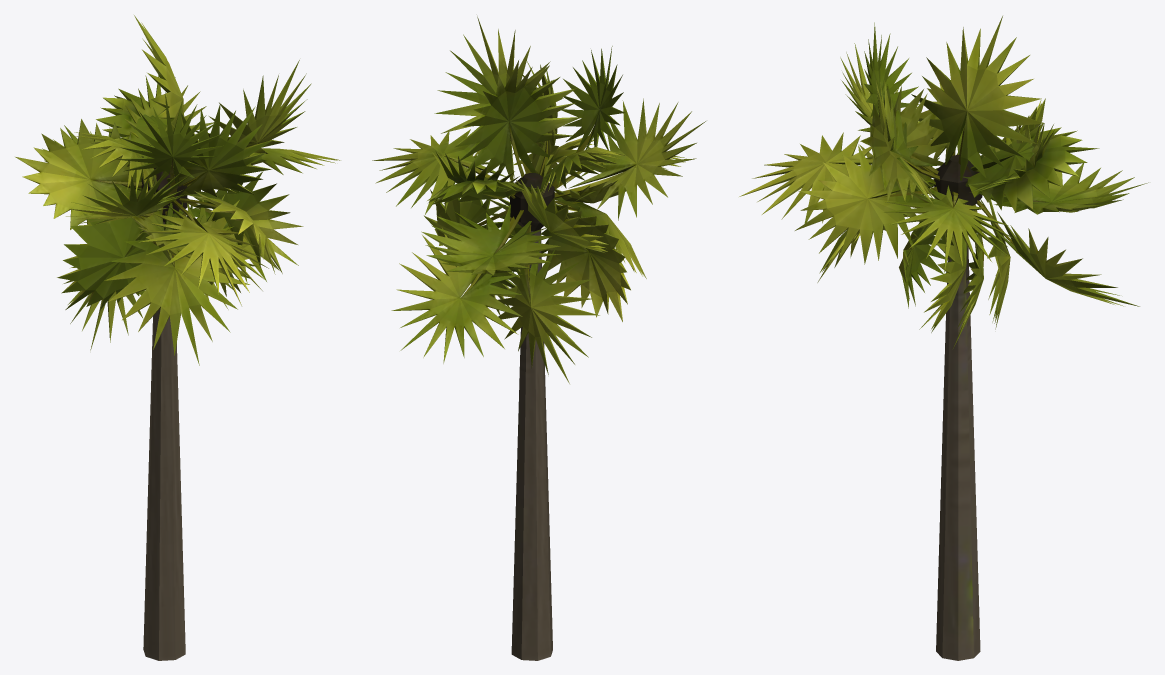
Rendered from ptall.glb.
3 views of the same model, side by side, from view 1: azimuth 30°, elevation 25°; view 2: azimuth 150°, elevation 25°; view 3: azimuth 270°, elevation 25° (orthographic). The views are drawn at different scales.
Visible parts, largest first — view 1: PalmyraPalmTree_mesh; view 2: PalmyraPalmTree_mesh; view 3: PalmyraPalmTree_mesh.
Part boxes in pixels (x1,y1,x2,y2): PalmyraPalmTree_mesh: (15, 15, 340, 660); PalmyraPalmTree_mesh: (372, 16, 705, 660); PalmyraPalmTree_mesh: (739, 16, 1148, 660).
Size of the model in its own units: 15.95 by 31.38 by 18.6.
1 material, 1 textured.
